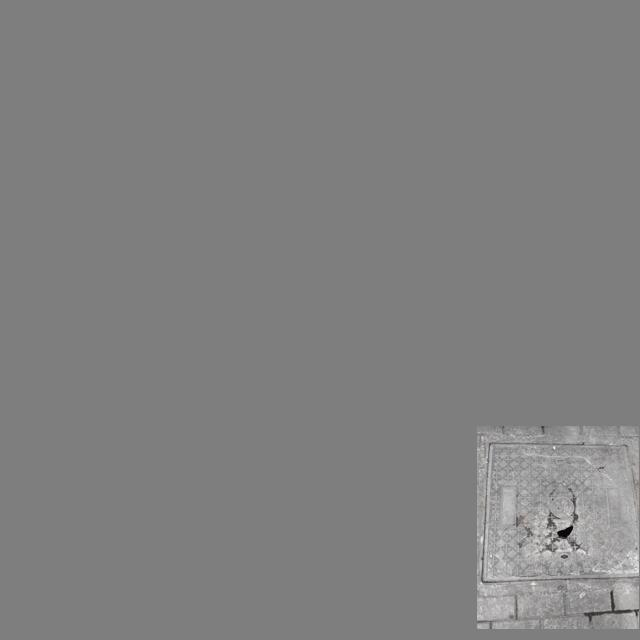broke: (479, 433, 638, 594)
